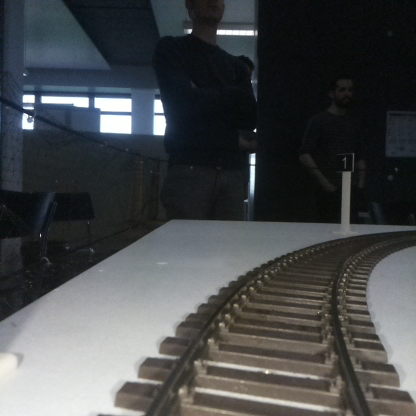black-info-1: (338, 152, 352, 234)
